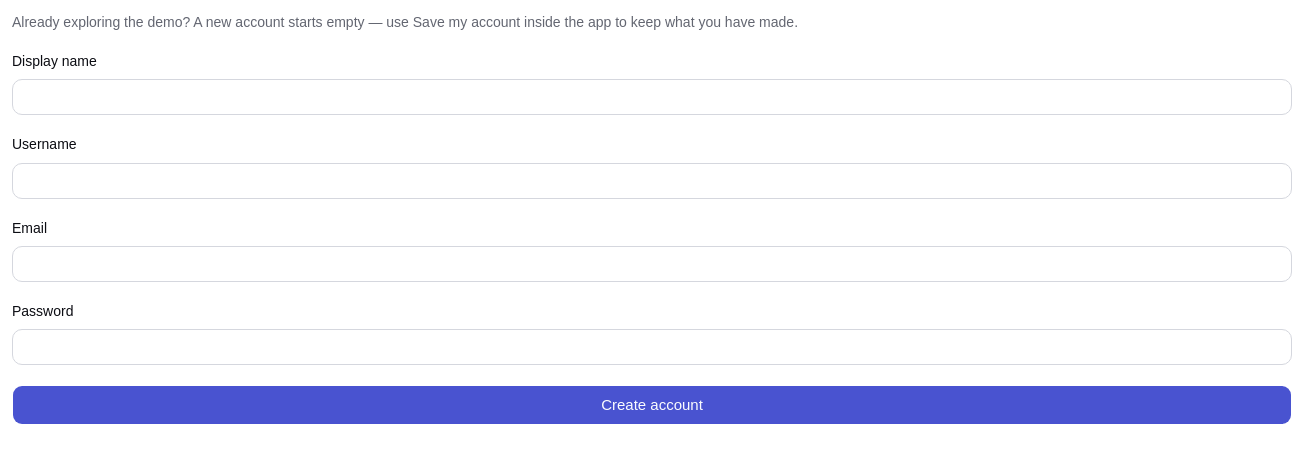
Test: SignUpForm › lands a taken username on the username field, not in a banner
The image size is (1304, 469).
Step 1. Type "Ada Lovelace" into the field labelled "Display name" → (652, 97), box [12, 79, 1292, 115]
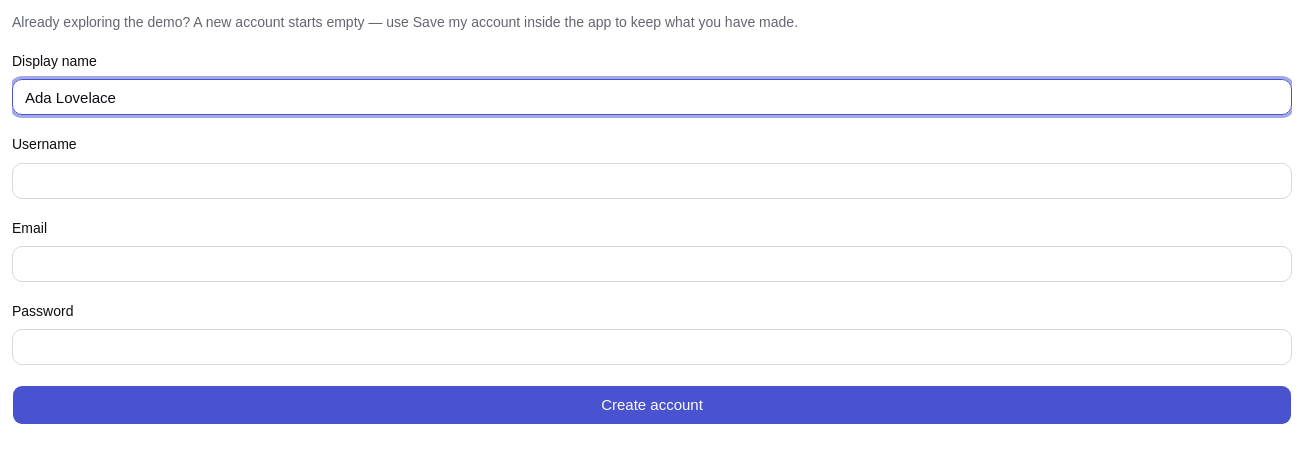
Step 2. Type "ada" into the field labelled "Username" → (652, 180), box [12, 162, 1292, 198]
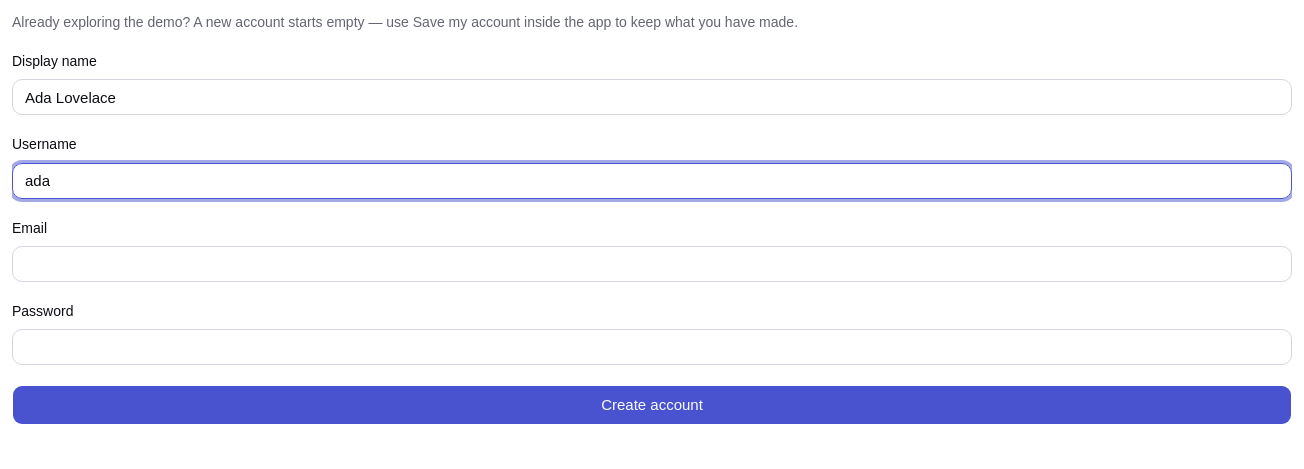
Step 3. Type "ada@example.com" into the field labelled "Email" → (652, 264), box [12, 246, 1292, 282]
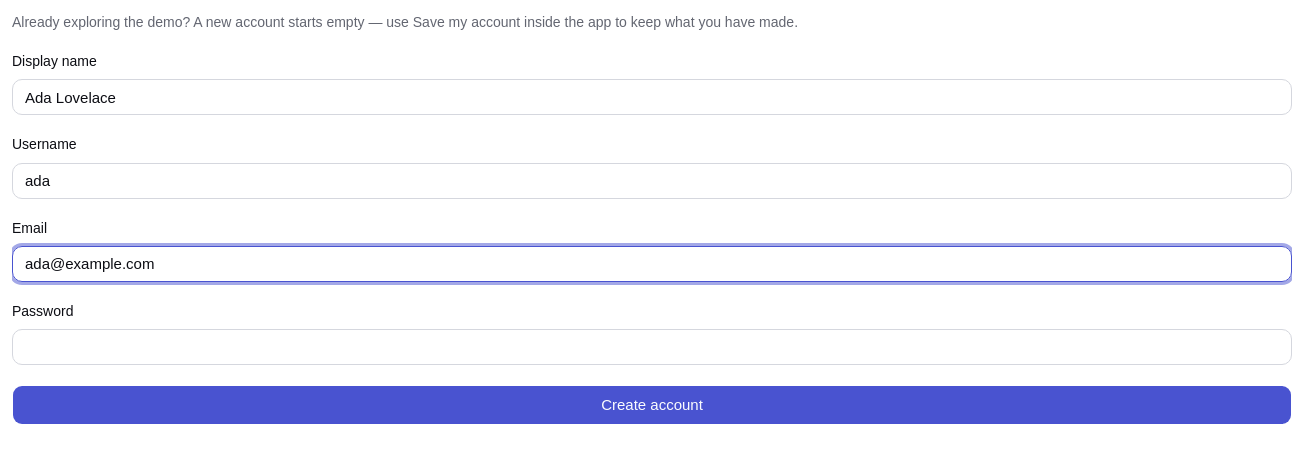
Step 4. Type "correct horse battery" into the password field labelled "Password" → (652, 347), box [12, 329, 1292, 365]
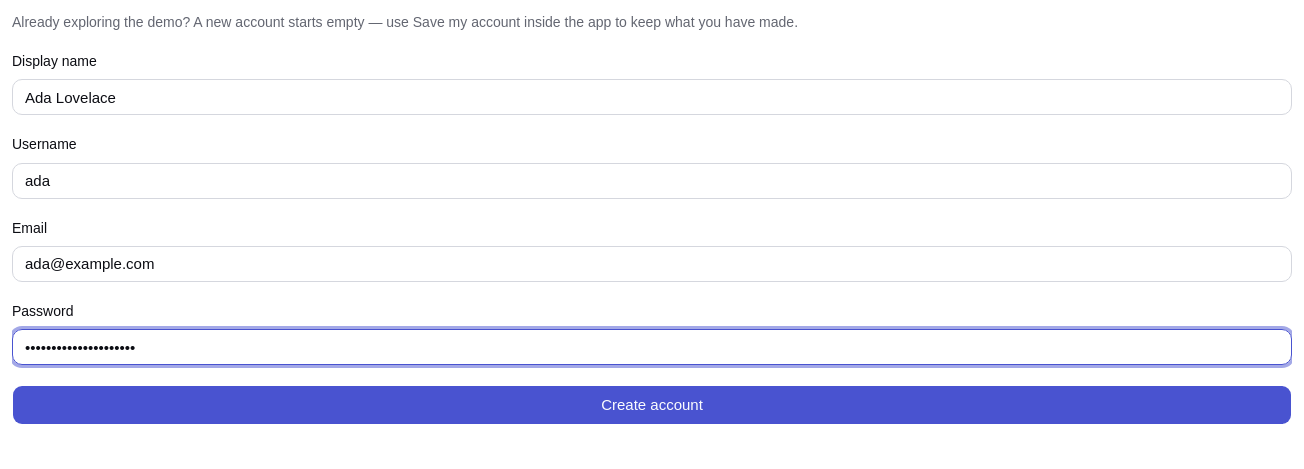
Step 5. Click the button "Create account" → (652, 405), box [12, 385, 1292, 425]
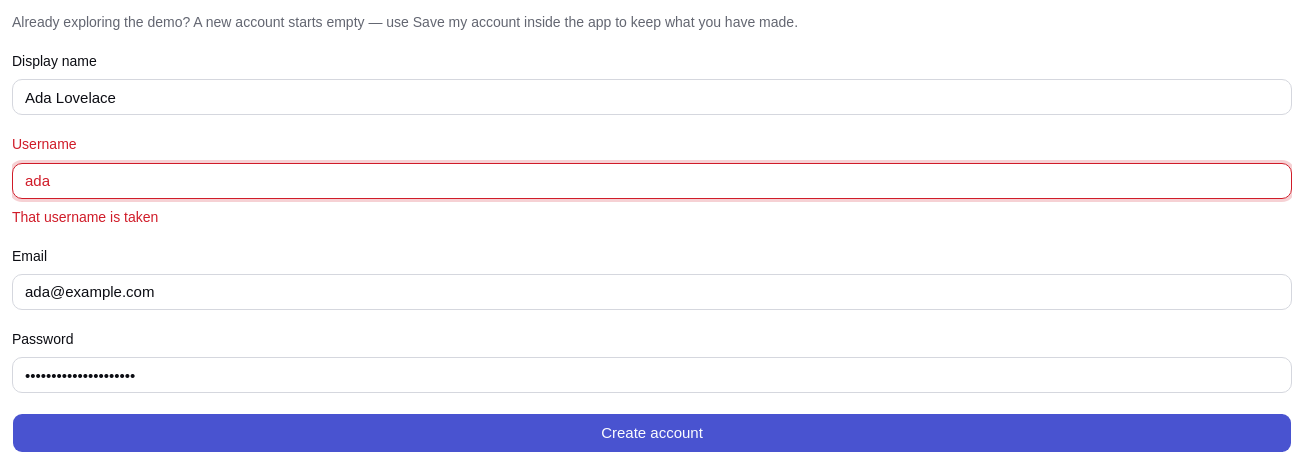
Check: the text "That username is taken" is shown, box [12, 208, 158, 224]
